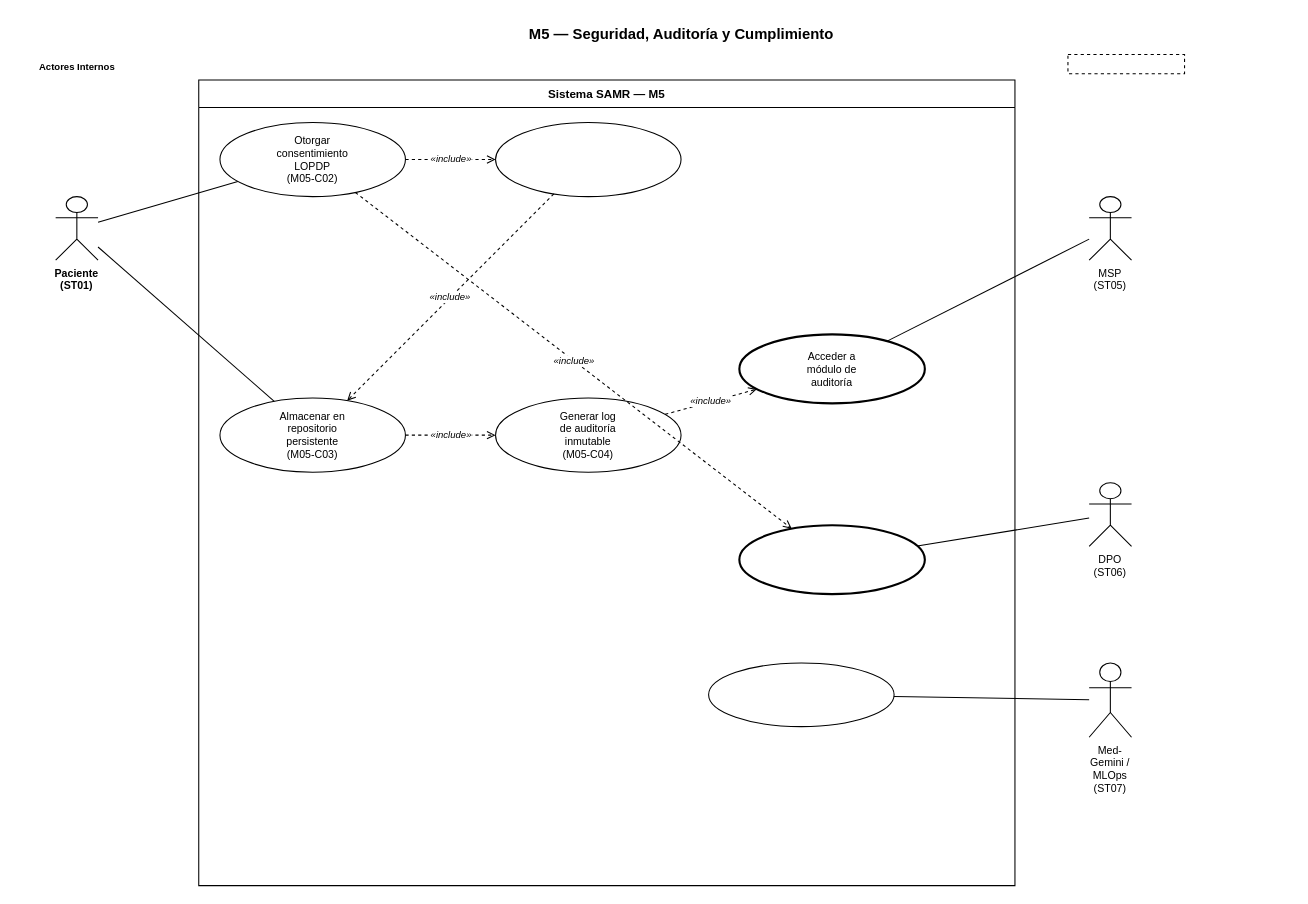
Image size: 1308x904. Some labels were removed from this diagram. Each missing label, with the centre of its shape:
"Actores Externos" goes at (1126,64).
"Auditar equidad de Med-Gemini" goes at (801,694).
"Cifrar datos en reposo y tránsito (M05-C01)" goes at (587,159).
"Supervisar cumplimiento LOPDP" goes at (831,559).
